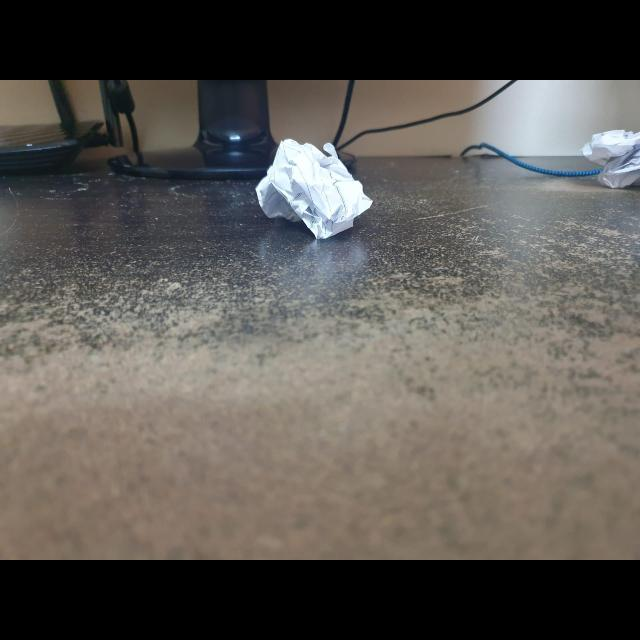scrap_paper: (258, 140, 372, 236)
